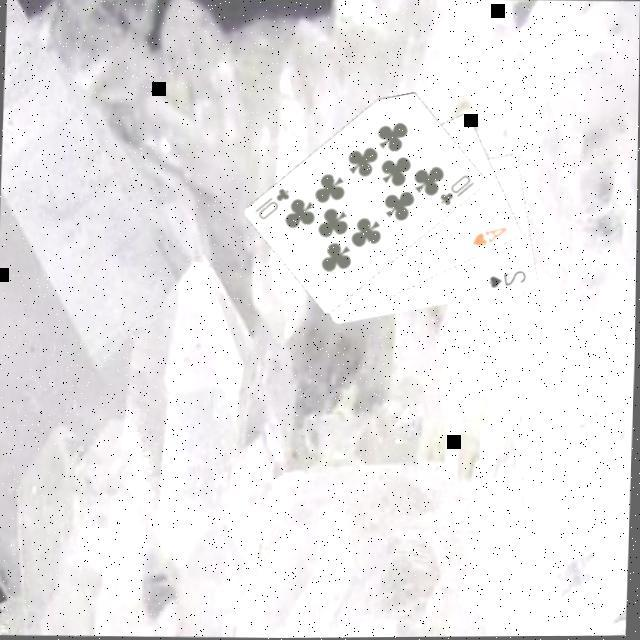10C: (437, 173, 478, 212), (252, 186, 294, 224)
2S: (486, 269, 530, 294)
AH: (471, 225, 512, 252)
